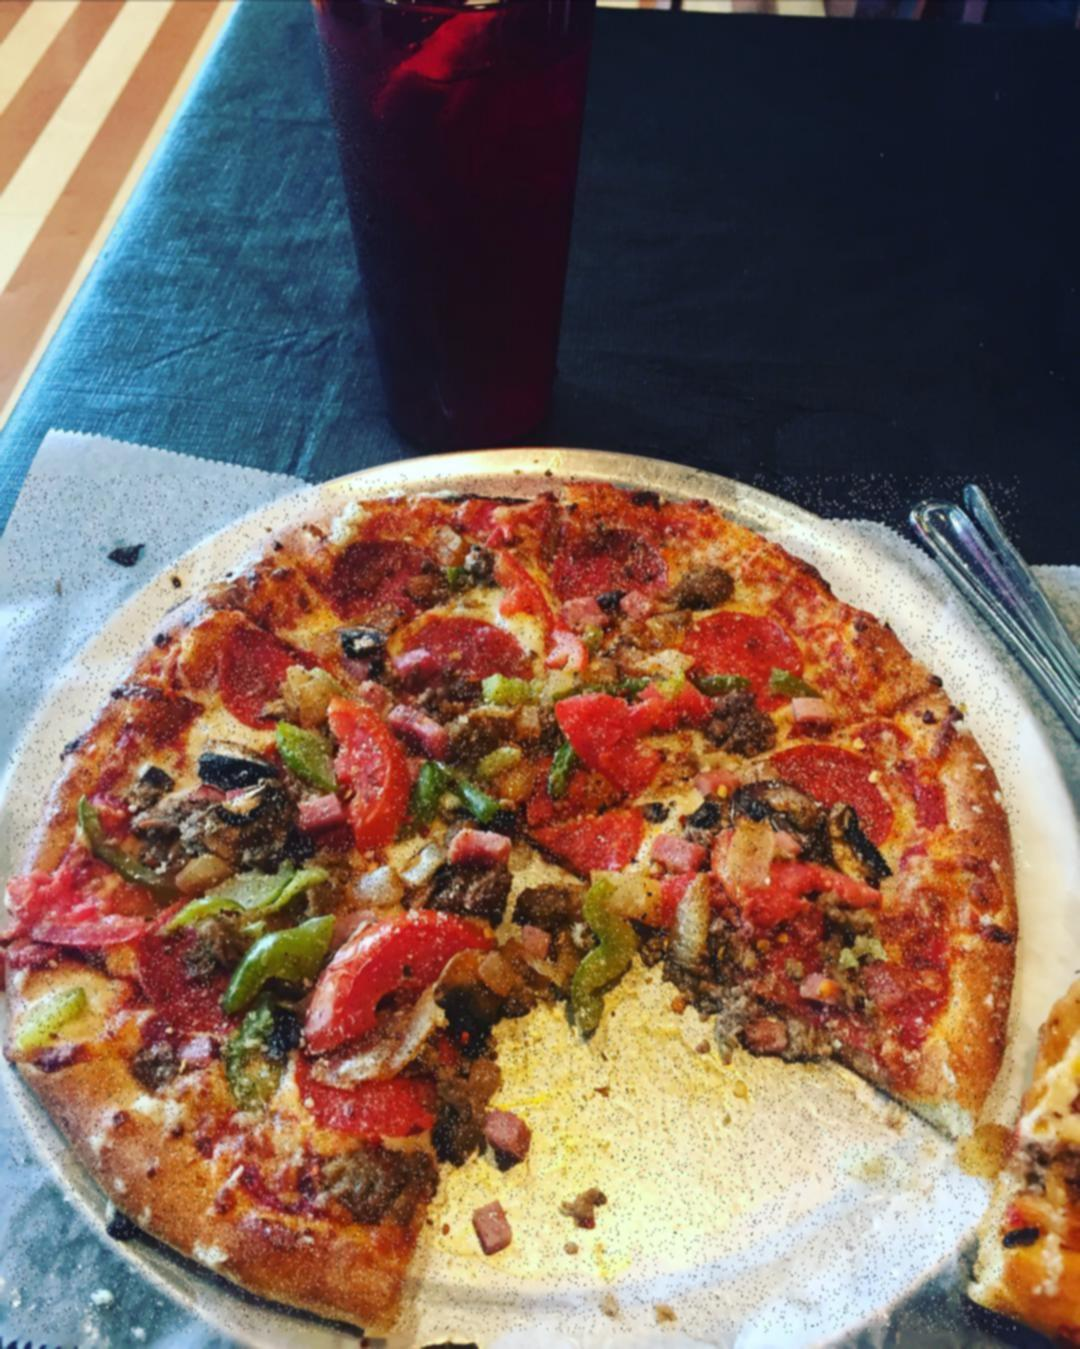Ham: (476, 1103, 536, 1175), (441, 818, 514, 875), (389, 698, 457, 758), (463, 1196, 519, 1263), (392, 648, 454, 702), (641, 830, 710, 870), (777, 690, 838, 732), (287, 794, 344, 837), (469, 947, 517, 995), (690, 755, 741, 799), (554, 589, 606, 630), (509, 921, 558, 963), (795, 965, 843, 1005), (619, 583, 660, 626), (765, 818, 802, 862)
Pepperoni: (687, 597, 819, 712), (18, 848, 169, 946), (281, 1060, 445, 1145), (395, 611, 539, 684), (214, 611, 304, 722), (332, 538, 446, 615), (537, 797, 651, 874), (754, 945, 840, 996)
Peppers: (158, 859, 343, 933), (563, 873, 640, 1042), (214, 920, 346, 1016), (71, 794, 185, 902), (392, 741, 492, 816), (13, 972, 94, 1053), (266, 716, 344, 794), (754, 656, 845, 706)
Pizza: (7, 474, 1019, 1332)
Tomatoes: (301, 914, 504, 1030), (327, 701, 422, 837), (554, 688, 670, 791), (447, 497, 544, 609), (741, 861, 872, 927)
